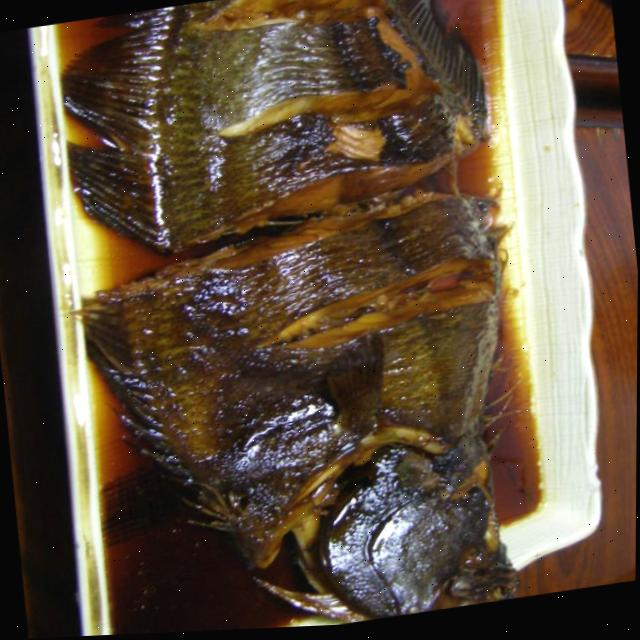熟制海鲜: (15, 0, 602, 639)
